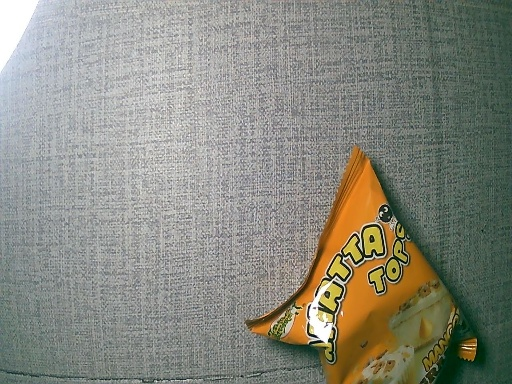plastic: (250, 143, 479, 384)
